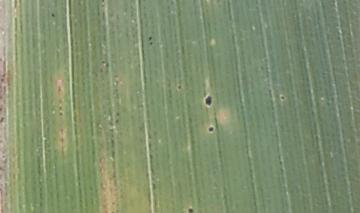tarspot: (203, 94, 214, 107), (208, 126, 215, 134), (49, 12, 56, 19), (188, 207, 196, 213), (177, 83, 183, 91), (280, 96, 287, 102), (146, 35, 154, 40), (148, 40, 154, 45)
